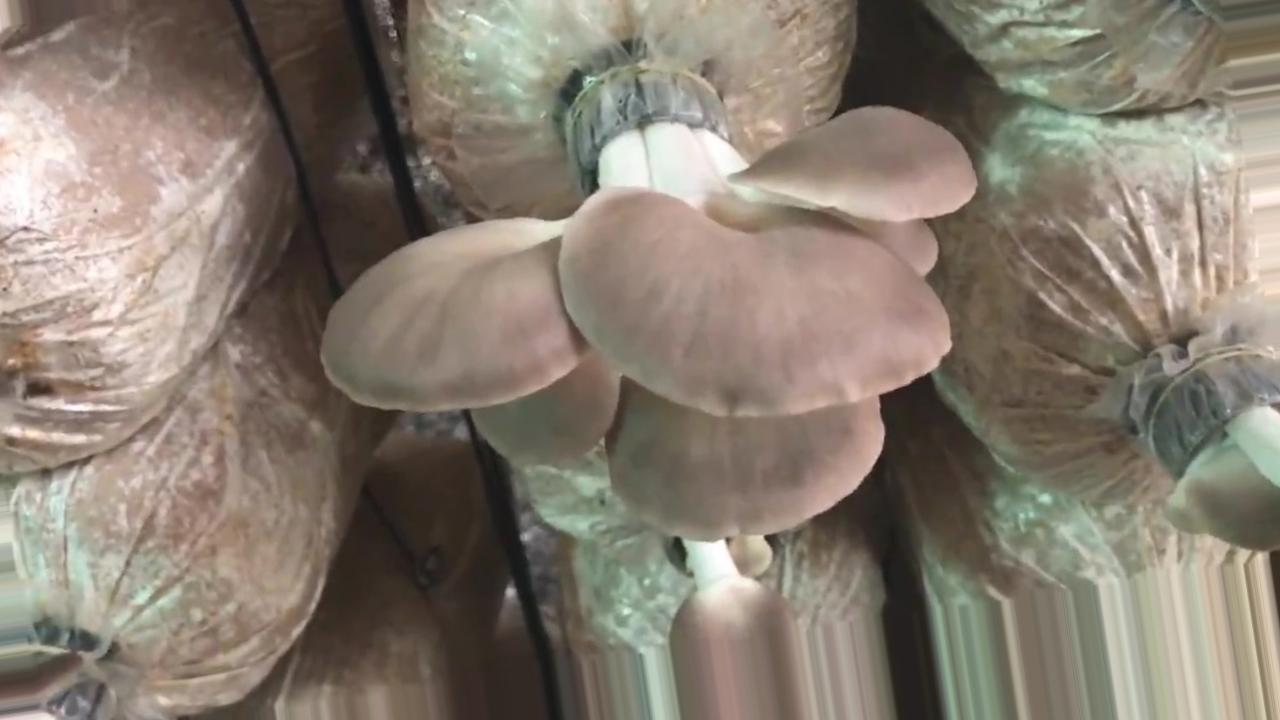nam: (327, 63, 977, 539), (667, 531, 798, 720)
